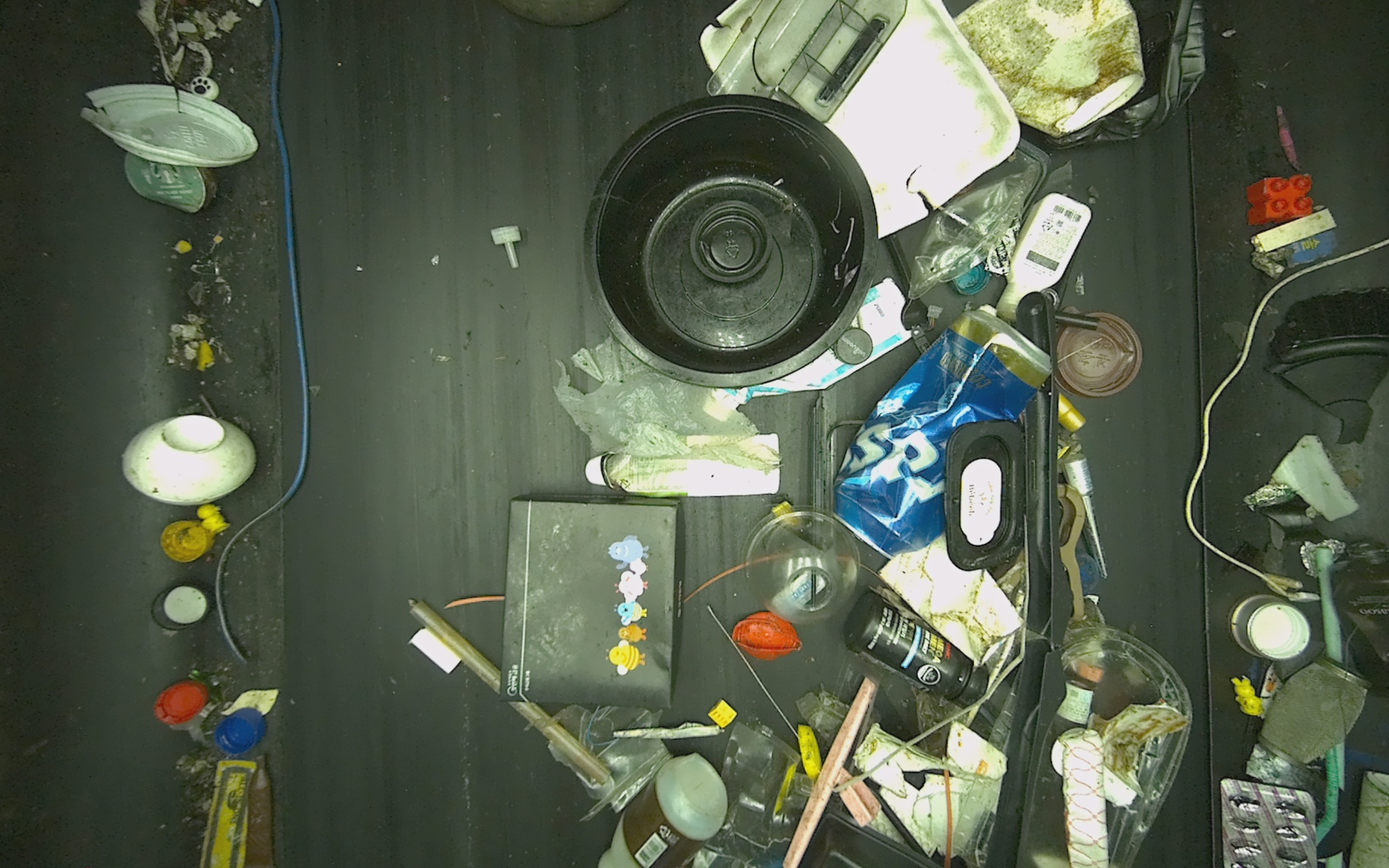PET-C: (908, 161, 1038, 298), (741, 506, 860, 624)
PP-B: (585, 94, 879, 388)
PS-W: (82, 85, 257, 167)
